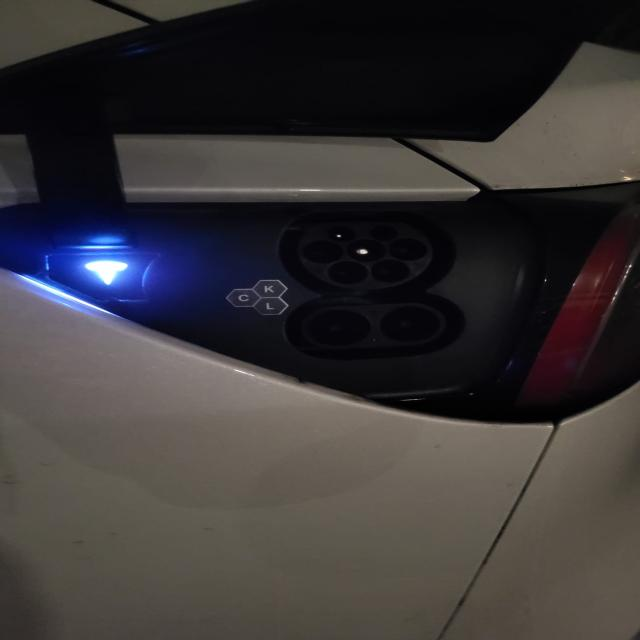inlet: (298, 222, 433, 289)
inlet-above-left: (328, 226, 357, 242)
inlet-above-right: (370, 225, 398, 241)
inlet-below-left: (327, 261, 368, 284)
inlet-below-right: (370, 259, 410, 282)
inlet-circle: (346, 239, 386, 262)
inlet-circle-left: (303, 240, 344, 264)
inlet-circle-right: (388, 238, 428, 260)
inlet-minus: (378, 306, 441, 342)
inlet-plus: (307, 310, 371, 346)
